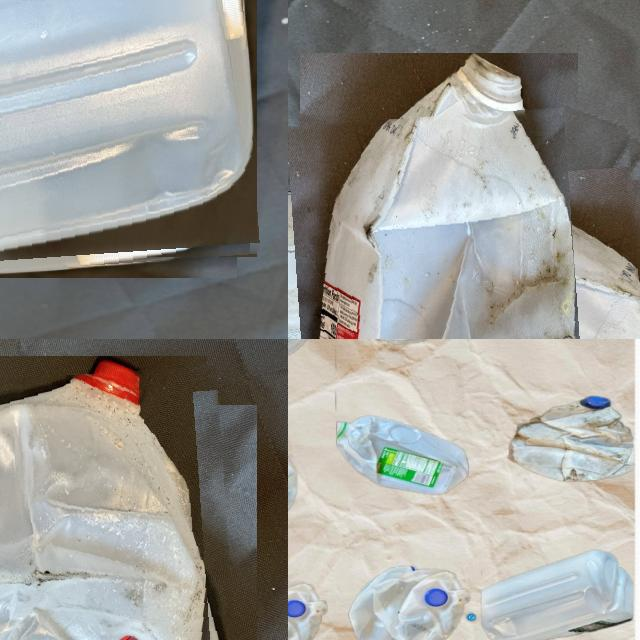milk-jug: (288, 109, 640, 339), (0, 0, 252, 274), (0, 373, 238, 640), (476, 546, 632, 638), (328, 410, 472, 500), (509, 390, 633, 480), (351, 564, 465, 640), (288, 579, 328, 640)
